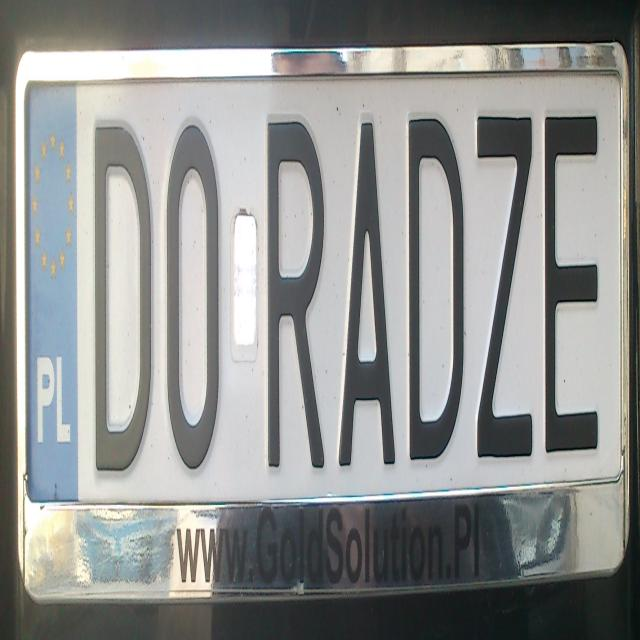pl_license_plate: (27, 84, 621, 498)
